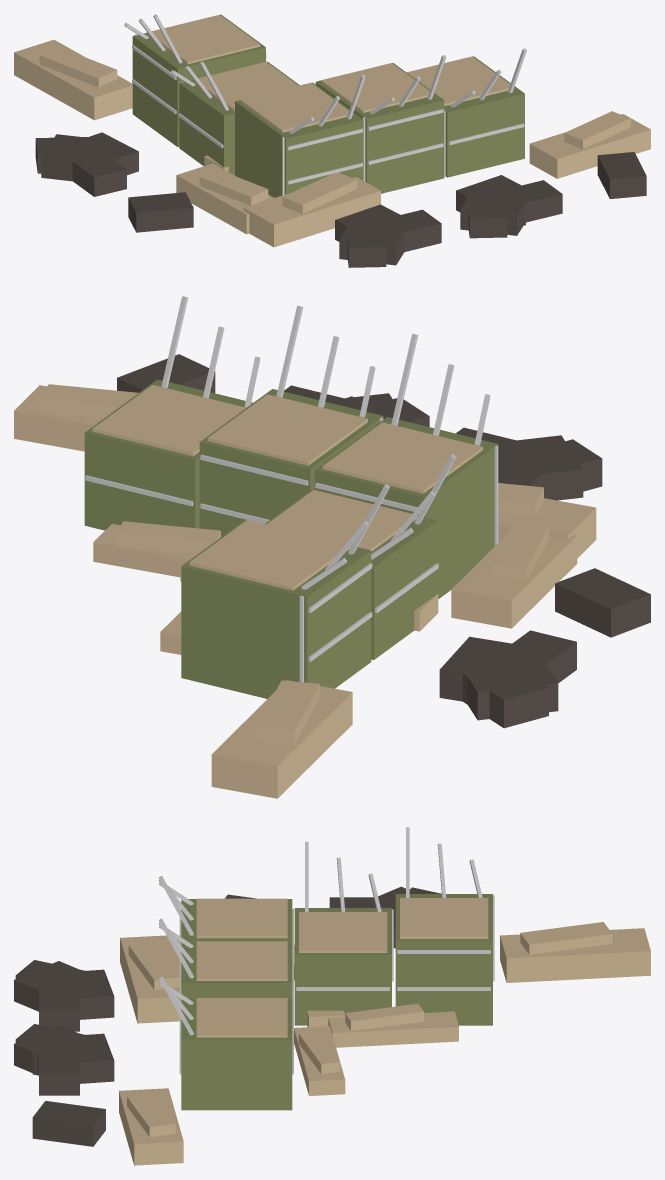
Rendered from SM_HescoEsquina_v2_Escalonado_e2_MuyDanado_LOD0.fbx.
The picture shows the model from 3 angles, top to bottom: view 1: azimuth 30°, elevation 25°; view 2: azimuth 150°, elevation 25°; view 3: azimuth 270°, elevation 25°; orthographic projection. The views are drawn at different scales.
Parts seen in each view (by area): view 1: SM_hesco_piezas_v10_LOD0; view 2: SM_hesco_piezas_v10_LOD0; view 3: SM_hesco_piezas_v10_LOD0.
Part boxes in pixels (x1,y1,x2,y2): SM_hesco_piezas_v10_LOD0: (14,14,650,267); SM_hesco_piezas_v10_LOD0: (14,296,650,798); SM_hesco_piezas_v10_LOD0: (14,827,650,1165).
Bounding box in the file's own units: 6.71 × 1.74 × 7.01.
